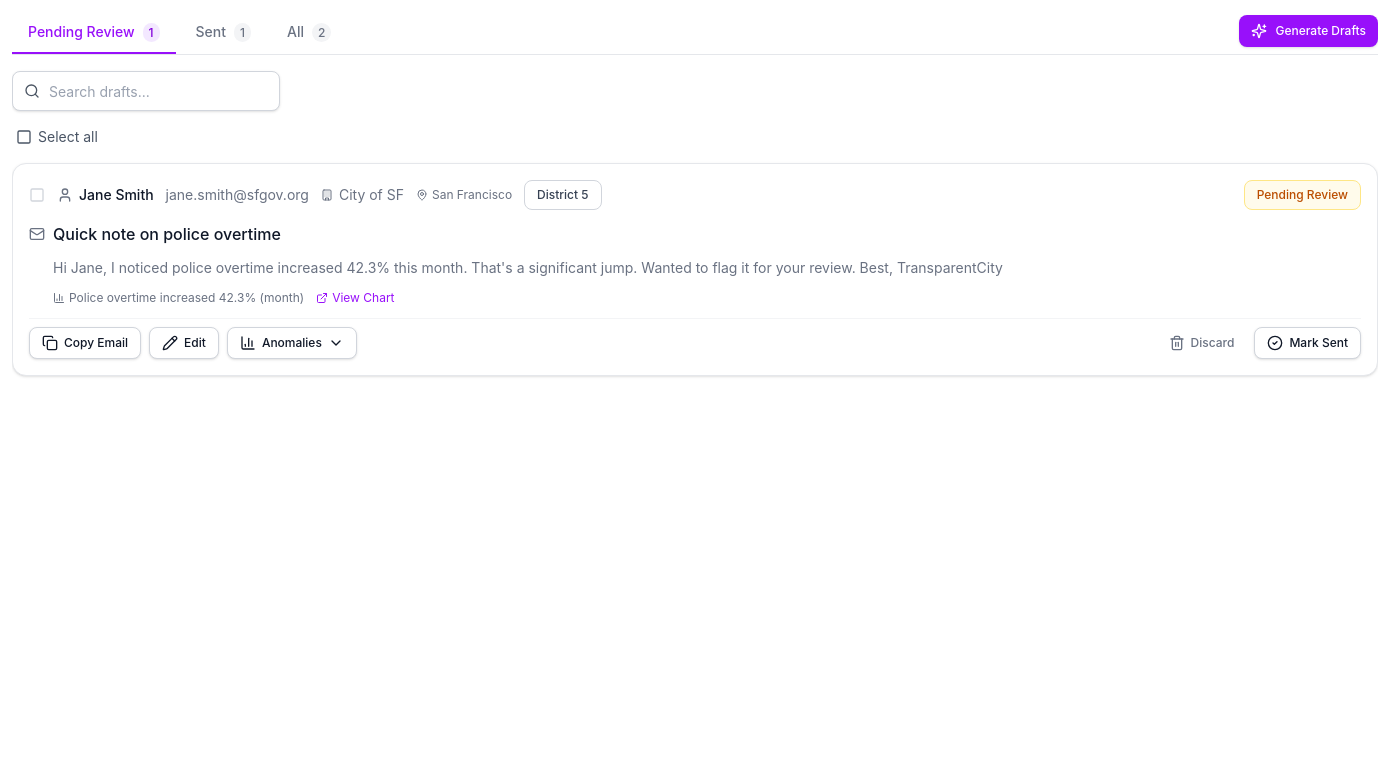
Test: ReviewAndSend › shows all items on 'All' tab
The image size is (1390, 780).
Click the button "All2" at [309, 33], box [271, 12, 347, 54]
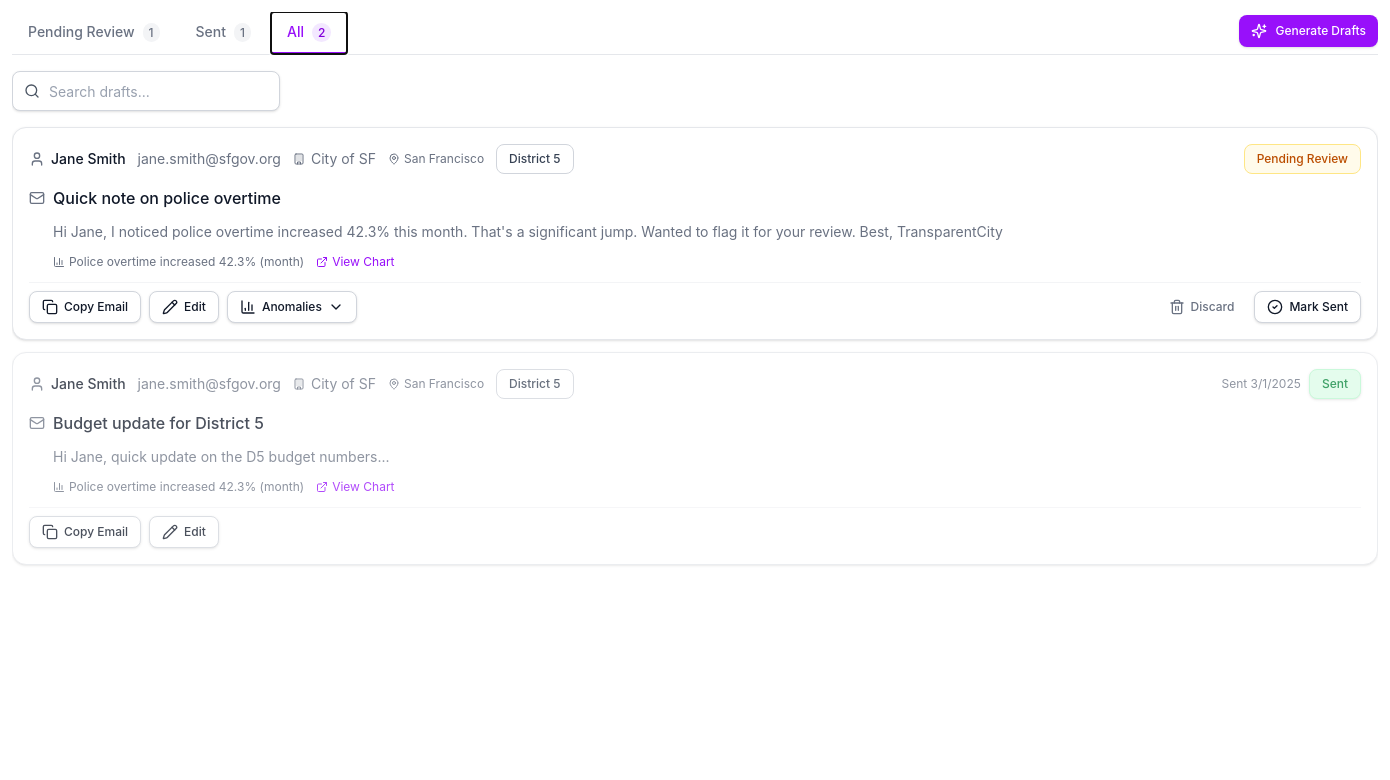
Expected: the text "Quick note on police overtime" is shown, [53, 186, 281, 210]
Now the text "Budget update for District 5" is shown, box [53, 411, 264, 435]
